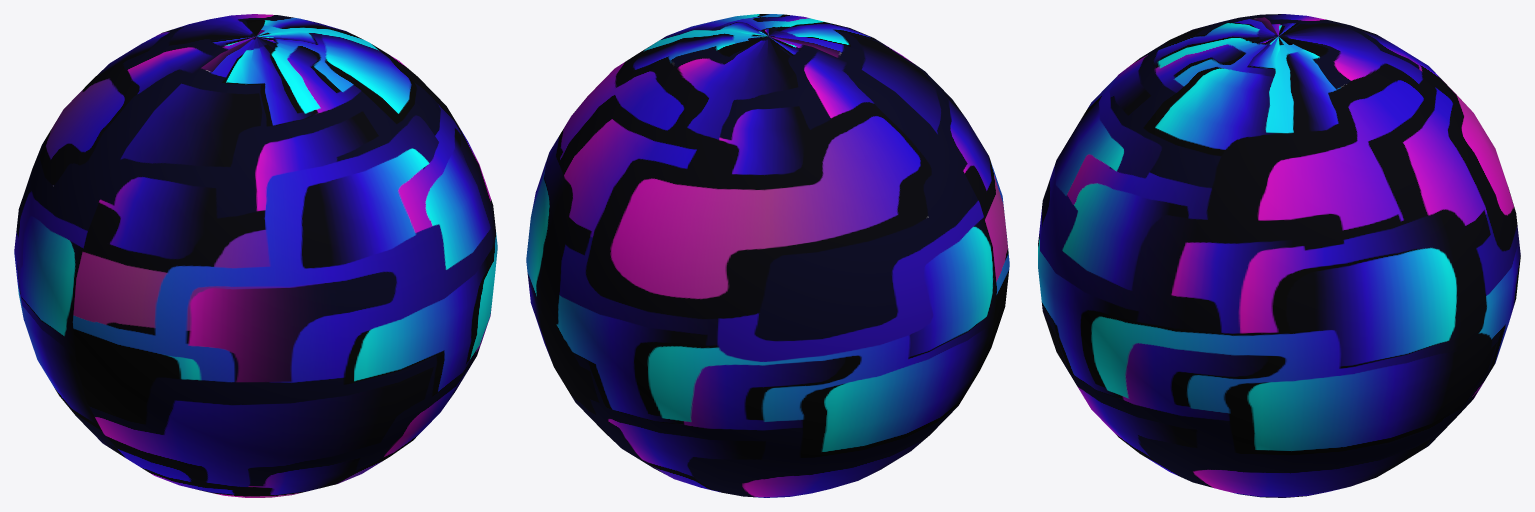
Rendered from ball.fbx.
3 renders of one model, left to right at view 1: azimuth 30°, elevation 25°; view 2: azimuth 150°, elevation 25°; view 3: azimuth 270°, elevation 25°, orthographic.
Visible parts, largest first — view 1: MarbalBall; view 2: MarbalBall; view 3: MarbalBall.
Part boxes in pixels (x1,y1,x2,y2): MarbalBall: (14,14,497,497); MarbalBall: (526,14,1009,497); MarbalBall: (1038,14,1520,497).
Bounding box in the file's own units: 59.31 × 59.42 × 59.19.
